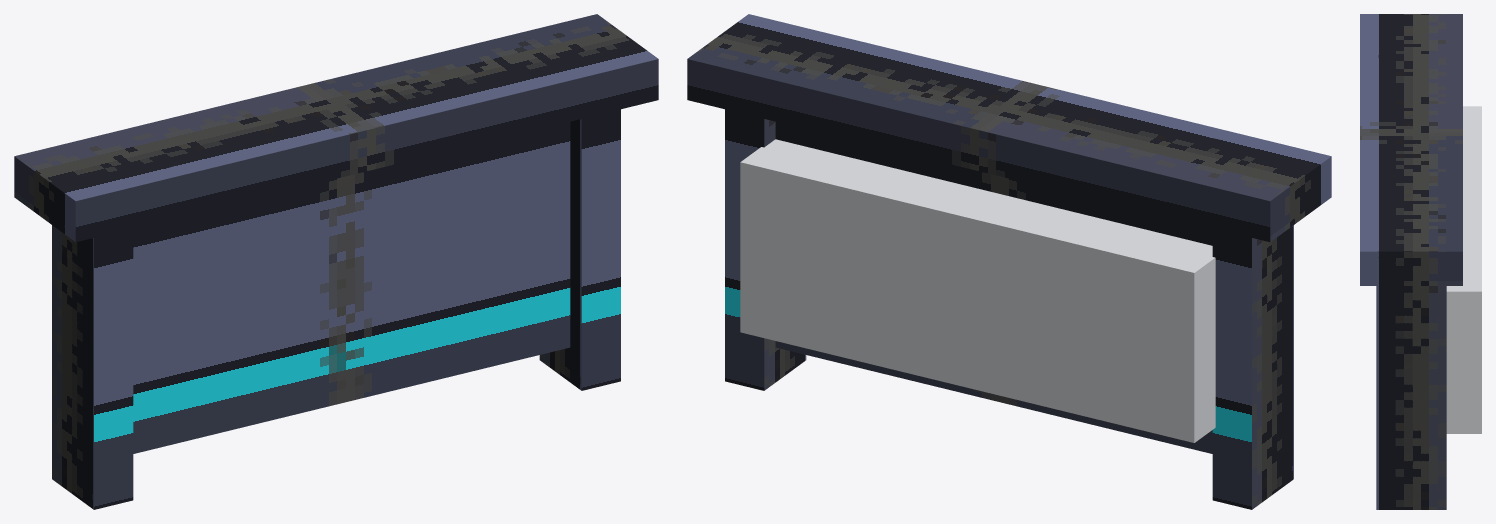
Rendered from nav_panel.glb.
3 views of the same model, side by side, from view 1: azimuth 30°, elevation 25°; view 2: azimuth 150°, elevation 25°; view 3: azimuth 270°, elevation 25° (orthographic). The views are drawn at different scales.
Parts seen in each view (by area): view 1: nav_panel; view 2: nav_panel; view 3: nav_panel.
Part boxes in pixels (<box>): nav_panel: <box>14,14,658,509</box>; nav_panel: <box>687,14,1331,509</box>; nav_panel: <box>1360,14,1481,509</box>.
Bounding box in the file's own units: 1.04 × 0.55 × 0.225.
5 materials, 4 textured.
